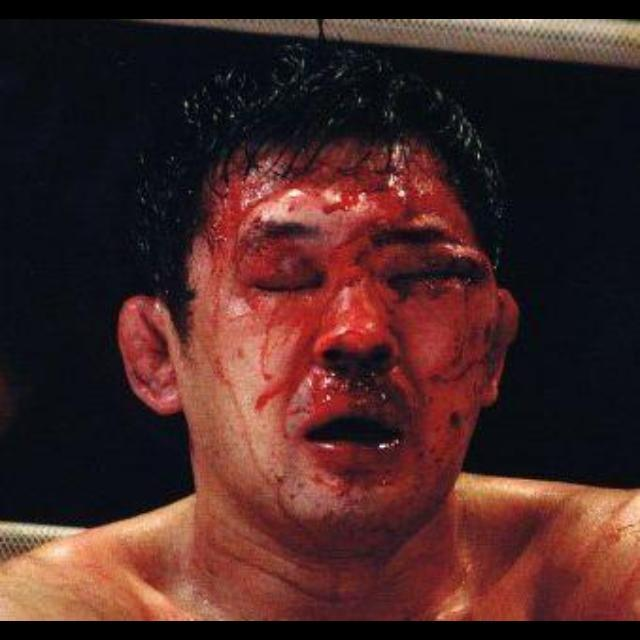blood: (181, 145, 519, 573)
